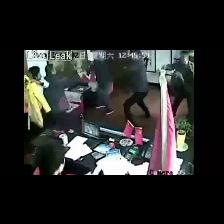person: (33, 137, 90, 174), (124, 59, 150, 126), (91, 50, 113, 115)
